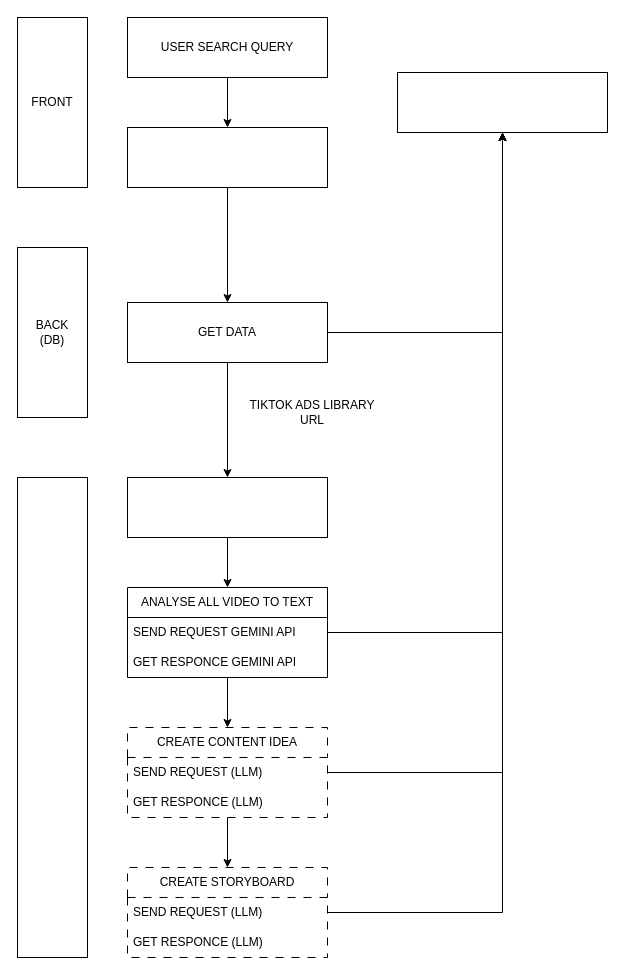
This 625x975 diagram has some shape labels left out. The centre of each missing label's shape, as x and y in pixels:
"API CALL" goes at [227,157].
"BACK (PYTHON)" goes at [52,717].
"DISPLAY TO FRONTEND" goes at [502,102].
"GET VIDEOS" goes at [227,507].
